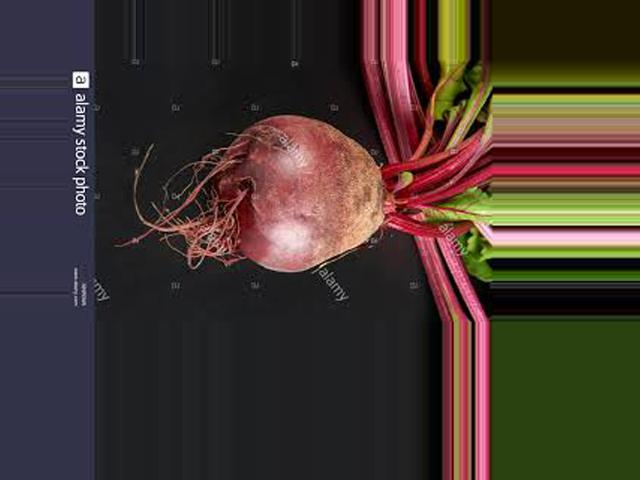beet: (115, 59, 491, 274)
